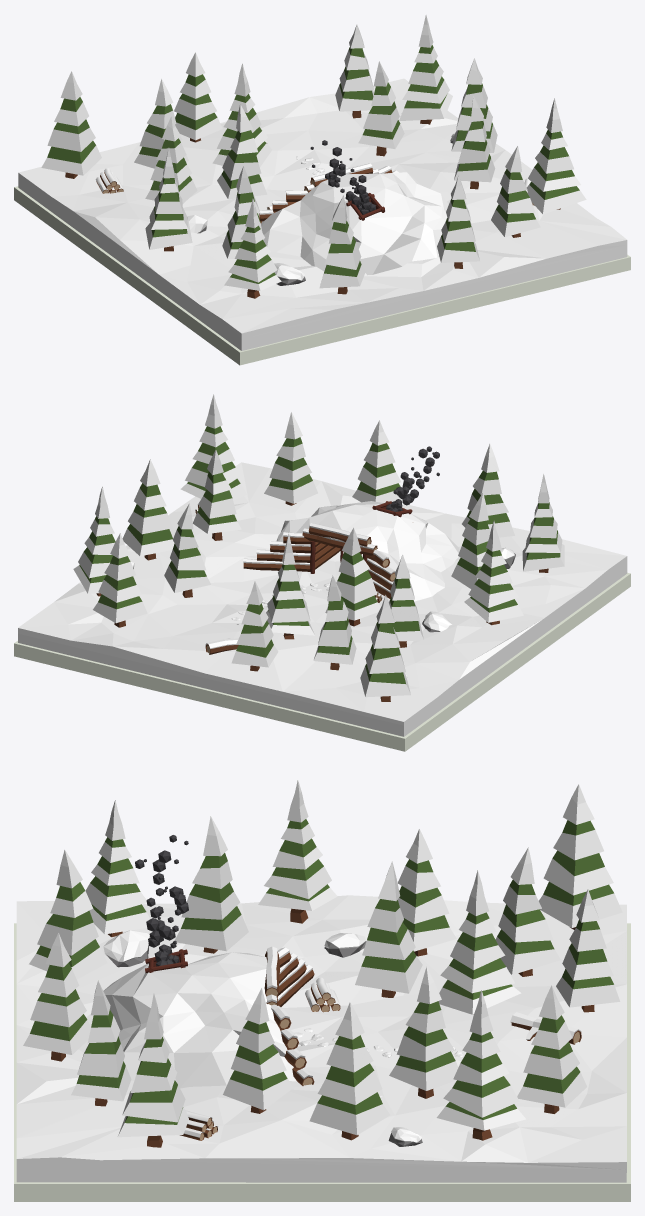
File: Low_Poly_Winter_landscape.glb
The picture shows the model from 3 angles, top to bottom: view 1: azimuth 30°, elevation 25°; view 2: azimuth 150°, elevation 25°; view 3: azimuth 270°, elevation 25°; orthographic projection. The views are drawn at different scales.
Parts seen in each view (by area): view 1: Terren Doska 3_V_0, Zemlianka_0, Terren Doska 3_S.001_0, Strom 9.003_0, Strom 7.001_0, Strom 7.003_0, Strom 7.002_0, Strom 7_0, Strom 9.005_0, Strom 8.001_0, Strom 8.003_0, Strom 8.006_0 (+11 smaller); view 2: Terren Doska 3_V_0, Zemlianka_0, Terren Doska 3_S.001_0, Strom 9.003_0, Strom 9.001_0, Strom 7.002_0, Strom 9.004_0, Strom 7.004_0, Strom 8.003_0, Strom 7.001_0, Strom 8.005_0, Strom 7_0 (+10 smaller); view 3: Terren Doska 3_V_0, Zemlianka_0, Terren Doska 3_S.001_0, Strom 9.003_0, Strom 7.003_0, Strom 9.001_0, Strom 7.004_0, Strom 7.001_0, Strom 8_0, Strom 7.002_0, Strom 8.005_0, Strom 9.004_0 (+15 smaller).
Part boxes in pixels (<box>): Terren Doska 3_V_0: <box>18,78,627,350</box>; Zemlianka_0: <box>259,163,448,275</box>; Terren Doska 3_S.001_0: <box>14,186,630,365</box>; Strom 9.003_0: <box>41,71,101,178</box>; Strom 7.001_0: <box>526,98,586,214</box>; Strom 7.003_0: <box>399,15,452,124</box>; Strom 7.002_0: <box>145,147,192,251</box>; Strom 7_0: <box>224,198,281,298</box>; Strom 9.005_0: <box>174,52,222,142</box>; Strom 8.001_0: <box>319,195,365,294</box>; Strom 8.003_0: <box>491,146,540,237</box>; Strom 8.006_0: <box>358,61,404,156</box>; Terren Doska 3_V_0: <box>18,462,627,736</box>; Zemlianka_0: <box>243,501,459,601</box>; Terren Doska 3_S.001_0: <box>14,572,630,751</box>; Strom 9.003_0: <box>360,595,410,701</box>; Strom 9.001_0: <box>122,459,174,560</box>; Strom 7.002_0: <box>464,521,523,625</box>; Strom 9.004_0: <box>93,533,147,627</box>; Strom 7.004_0: <box>266,533,314,639</box>; Strom 8.003_0: <box>264,412,317,505</box>; Strom 7.001_0: <box>180,394,246,500</box>; Strom 8.005_0: <box>325,527,380,626</box>; Strom 7_0: <box>522,474,564,572</box>; Terren Doska 3_V_0: <box>16,895,626,1182</box>; Zemlianka_0: <box>103,946,314,1088</box>; Terren Doska 3_S.001_0: <box>14,923,630,1201</box>; Strom 9.003_0: <box>539,784,622,929</box>; Strom 7.003_0: <box>436,990,525,1140</box>; Strom 9.001_0: <box>309,1002,390,1140</box>; Strom 7.004_0: <box>438,870,521,1014</box>; Strom 7.001_0: <box>118,993,188,1147</box>; Strom 8_0: <box>174,816,248,953</box>; Strom 7.002_0: <box>258,780,337,923</box>; Strom 8.005_0: <box>355,861,422,997</box>; Strom 9.004_0: <box>517,985,586,1113</box>.
Size of the model in its own units: 7.98 by 2.88 by 7.98.
2 materials, 2 textured.
